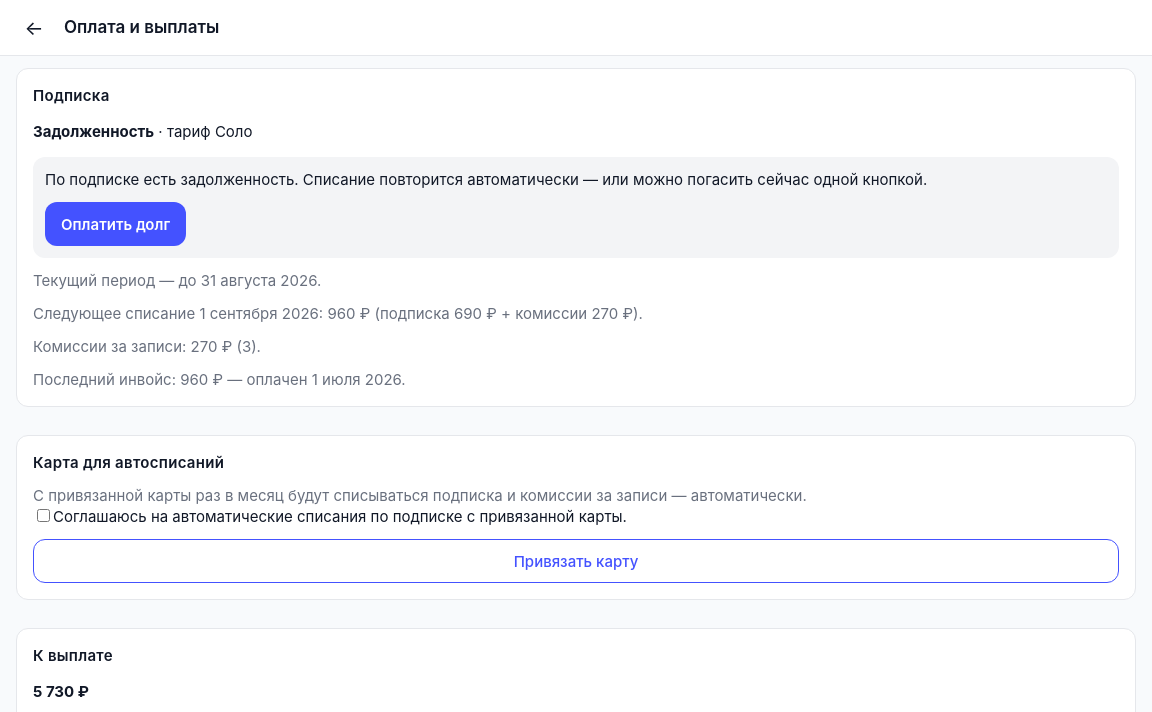
Test: MasterBillingScreen — pay debt CTA (past_due) › saved-method path: shows «Списано» and refetches the status
Click the button "Оплатить долг" at (116, 224), box [45,202,186,246]
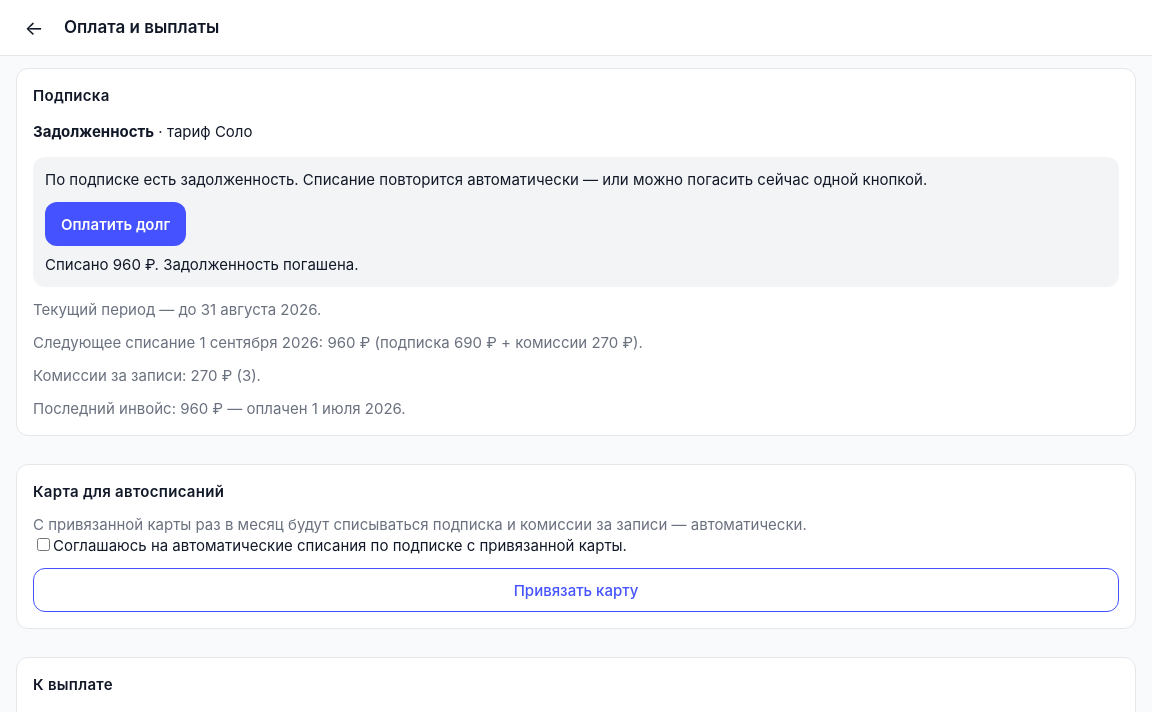
Result: the text "Списано 960 ₽. Задолженность погашена." is shown at [45,255,358,274]
